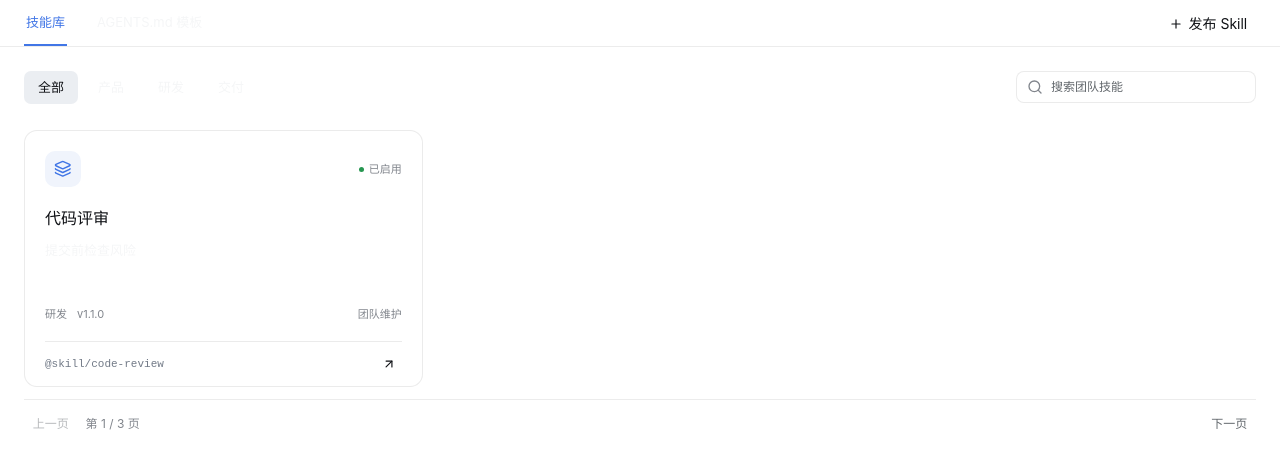
SkillList › 超过一页时显示分页并保持筛选条件
Expected: the text "第 1 / 3 页" is shown, [86,415,140,433]
Click the button "下一页".
click(1229, 424)  # box [1202,412,1256,436]
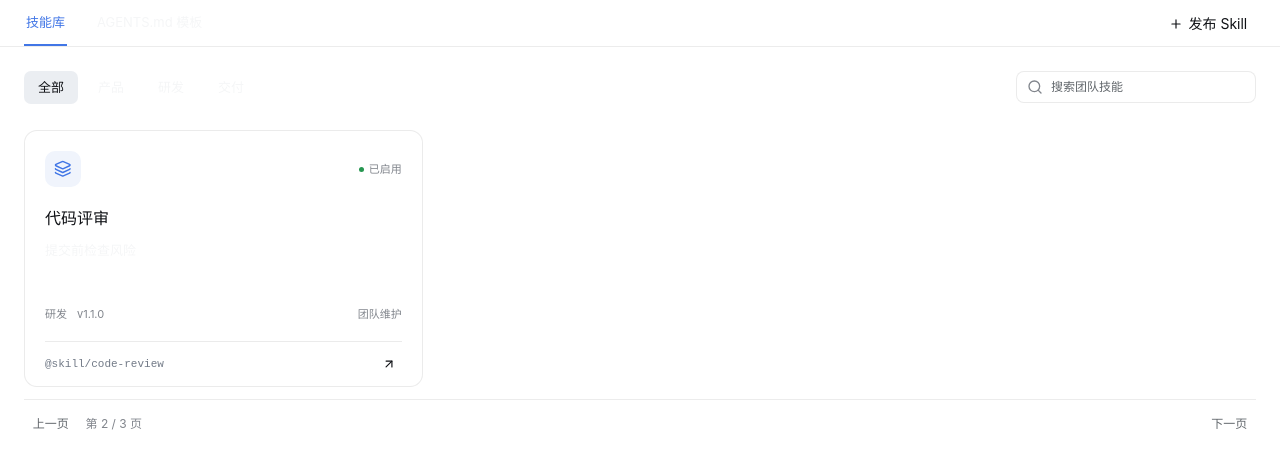
Now the text "第 2 / 3 页" is shown, box [86,415,142,433]
